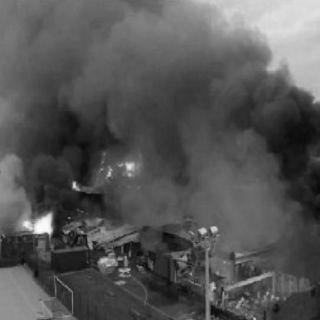Fire: (73, 149, 145, 189), (15, 211, 59, 233)
Smoke: (147, 142, 317, 276), (1, 147, 79, 215)
